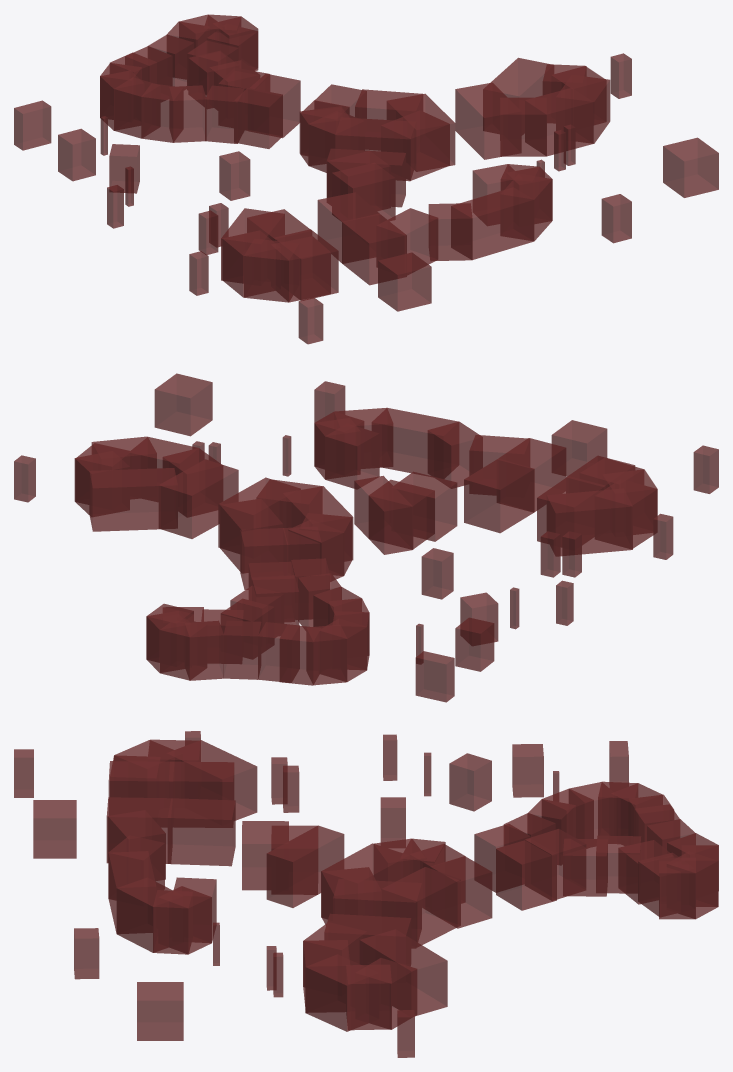
Rendered from VillageColliders.fbx.
The picture shows the model from 3 angles, top to bottom: view 1: azimuth 30°, elevation 25°; view 2: azimuth 150°, elevation 25°; view 3: azimuth 270°, elevation 25°; orthographic projection. The views are drawn at different scales.
Parts seen in each view (by area): view 1: BoundingBox49, BoundingBox79, BoundingBox32, BoundingBox86, BoundingBox35, BoundingBox87, BoundingBox83, BoundingBox26, BoundingBox81, BoundingBox82, BoundingBox50, BoundingBox84 (+53 smaller); view 2: BoundingBox28, BoundingBox49, BoundingBox80, BoundingBox79, BoundingBox86, BoundingBox87, BoundingBox41, BoundingBox39, BoundingBox81, BoundingBox25, BoundingBox26, BoundingBox85 (+53 smaller); view 3: BoundingBox28, BoundingBox88, BoundingBox86, BoundingBox39, BoundingBox25, BoundingBox80, BoundingBox16, BoundingBox19, BoundingBox49, BoundingBox50, BoundingBox29, BoundingBox26 (+53 smaller).
Part boxes in pixels (x1,y1,x2,y2): BoundingBox49: (451,187,534,259); BoundingBox79: (455,83,521,159); BoundingBox32: (525,88,593,156); BoundingBox86: (317,192,380,263); BoundingBox35: (381,110,449,180); BoundingBox87: (342,213,406,285); BoundingBox83: (271,236,330,302); BoundingBox26: (387,93,455,171); BoundingBox81: (222,230,280,297); BoundingBox82: (244,238,298,302); BoundingBox50: (500,174,552,240); BoundingBox84: (274,229,338,300); BoundingBox28: (89,468,177,531); BoundingBox49: (371,407,458,478); BoundingBox80: (547,489,632,556); BoundingBox79: (159,459,238,538); BoundingBox86: (464,458,534,533); BoundingBox87: (497,438,566,512); BoundingBox41: (368,479,434,549); BoundingBox39: (354,475,413,554); BoundingBox81: (595,480,657,549); BoundingBox25: (220,498,283,573); BoundingBox26: (218,477,300,553); BoundingBox85: (537,476,605,547); BoundingBox28: (359,929,447,1016); BoundingBox88: (305,954,378,1031); BoundingBox86: (167,798,235,866); BoundingBox39: (266,825,344,907); BoundingBox25: (381,867,460,946); BoundingBox80: (167,740,257,820); BoundingBox16: (496,839,556,910); BoundingBox19: (524,829,586,900); BoundingBox49: (108,851,155,933); BoundingBox50: (116,877,183,952); BoundingBox29: (356,958,416,1029); BoundingBox26: (333,879,421,947).
Size of the model in its own units: 273 by 22.03 by 284.
